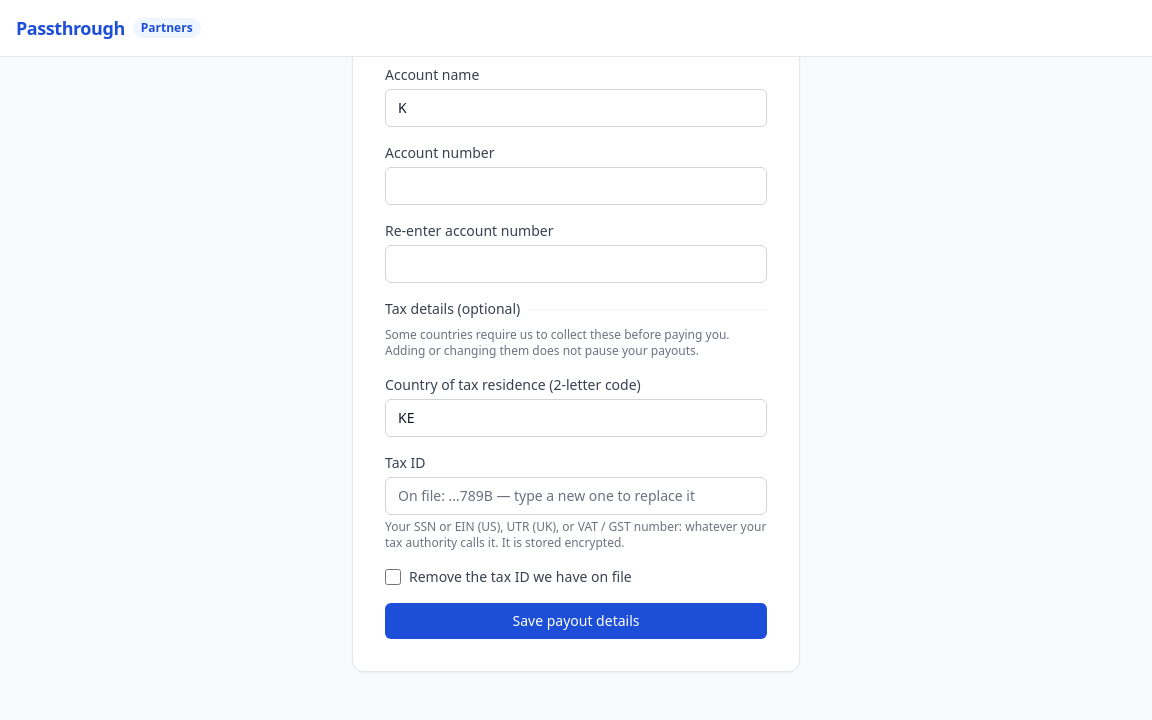
Scenario: payout page: tax-only save and removal (section 4 fresh pass) › with nothing changed and no number typed it says nothing has changed (round 45) and posts nothing
(page scrolled)
What coordinates should you click on to do the following:
click the button "Save payout details"
I would click on:
 (576, 621)
Its box is [385, 603, 767, 639].
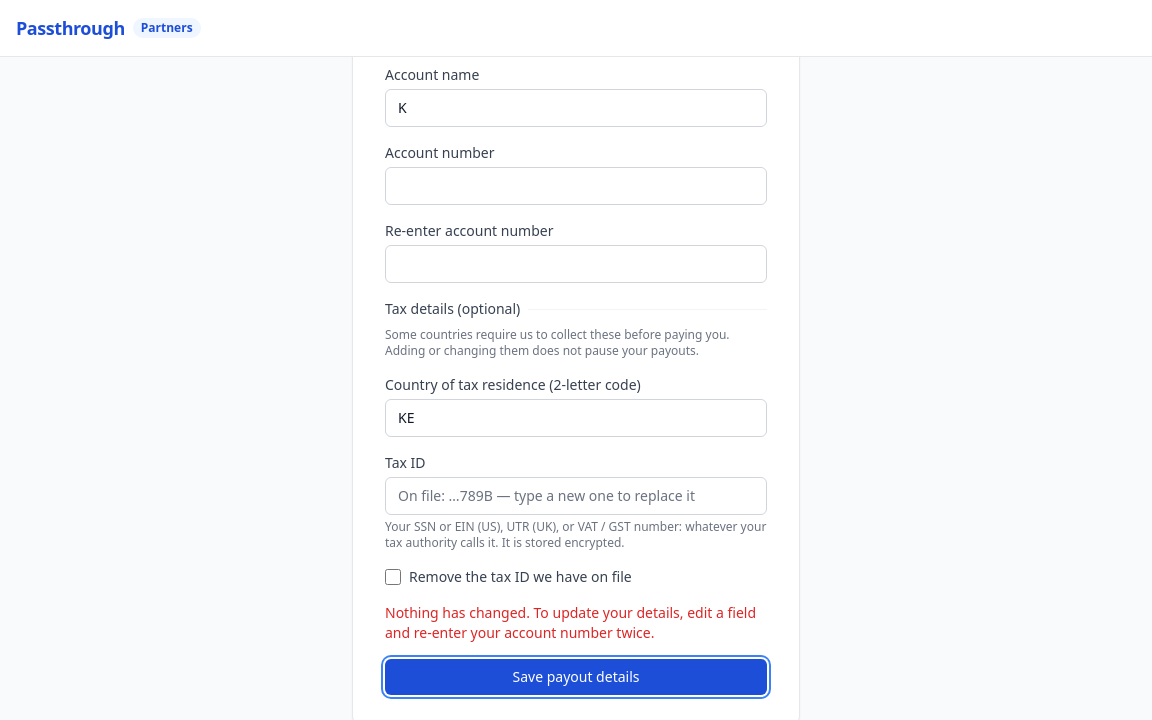
Result: the text "Nothing has changed" is shown at [385, 603, 756, 642]
